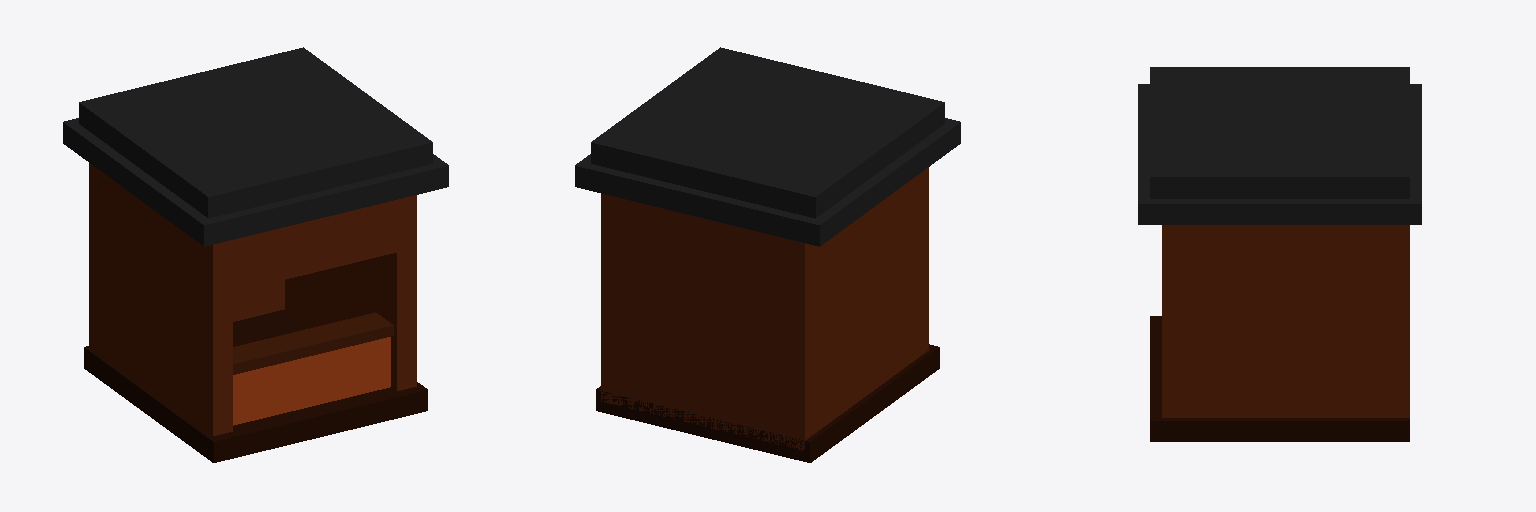
File: storeStall.obj
The picture shows the model from 3 angles: view 1: azimuth 30°, elevation 25°; view 2: azimuth 150°, elevation 25°; view 3: azimuth 270°, elevation 25°; orthographic projection.
Visible parts, largest first — view 1: Cube; view 2: Cube; view 3: Cube.
Boxes of the visible parts, <box> form: Cube: <box>63,47,448,462</box>; Cube: <box>575,47,960,462</box>; Cube: <box>1138,67,1421,441</box>.
Size of the model in its own units: 12 by 12.5 by 12.